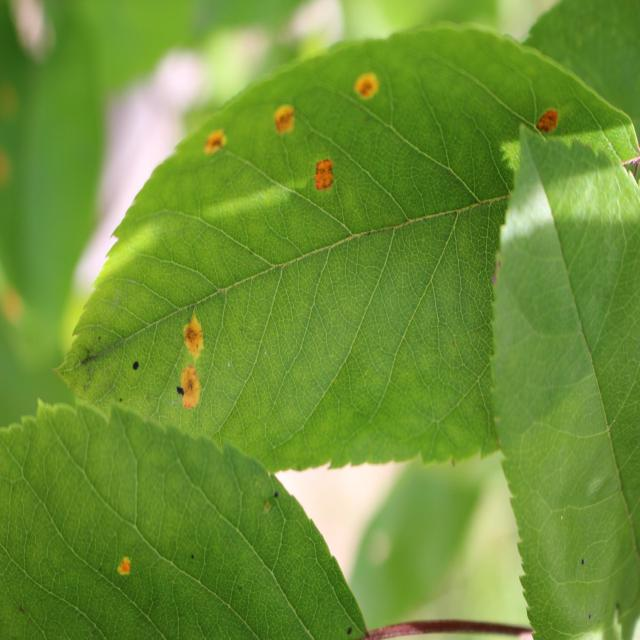Rust: (172, 306, 215, 366), (171, 361, 209, 417), (352, 60, 387, 110), (270, 99, 304, 147), (313, 148, 338, 204), (196, 128, 234, 164), (107, 551, 146, 585), (533, 101, 564, 139)
